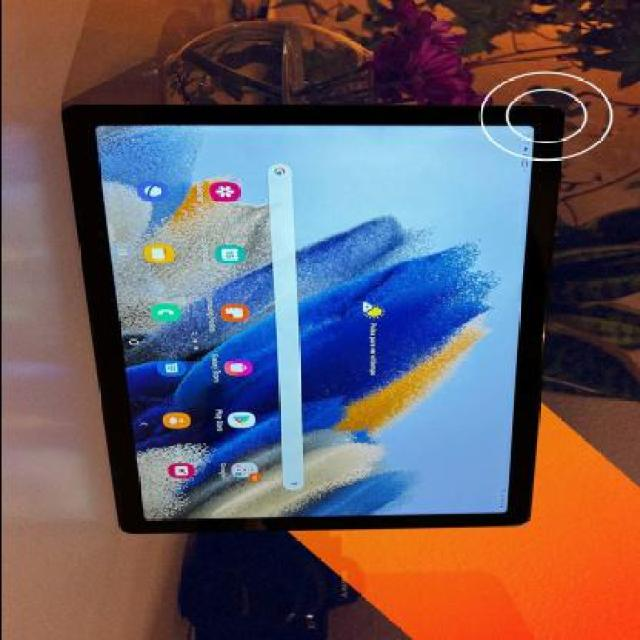tablet: (68, 63, 583, 542)
